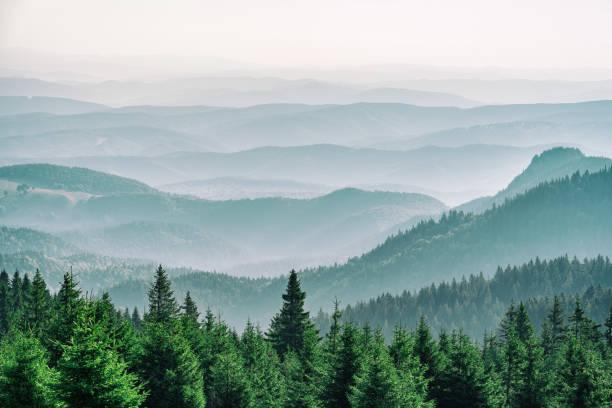Non_Gorille: (41, 97, 562, 408)
